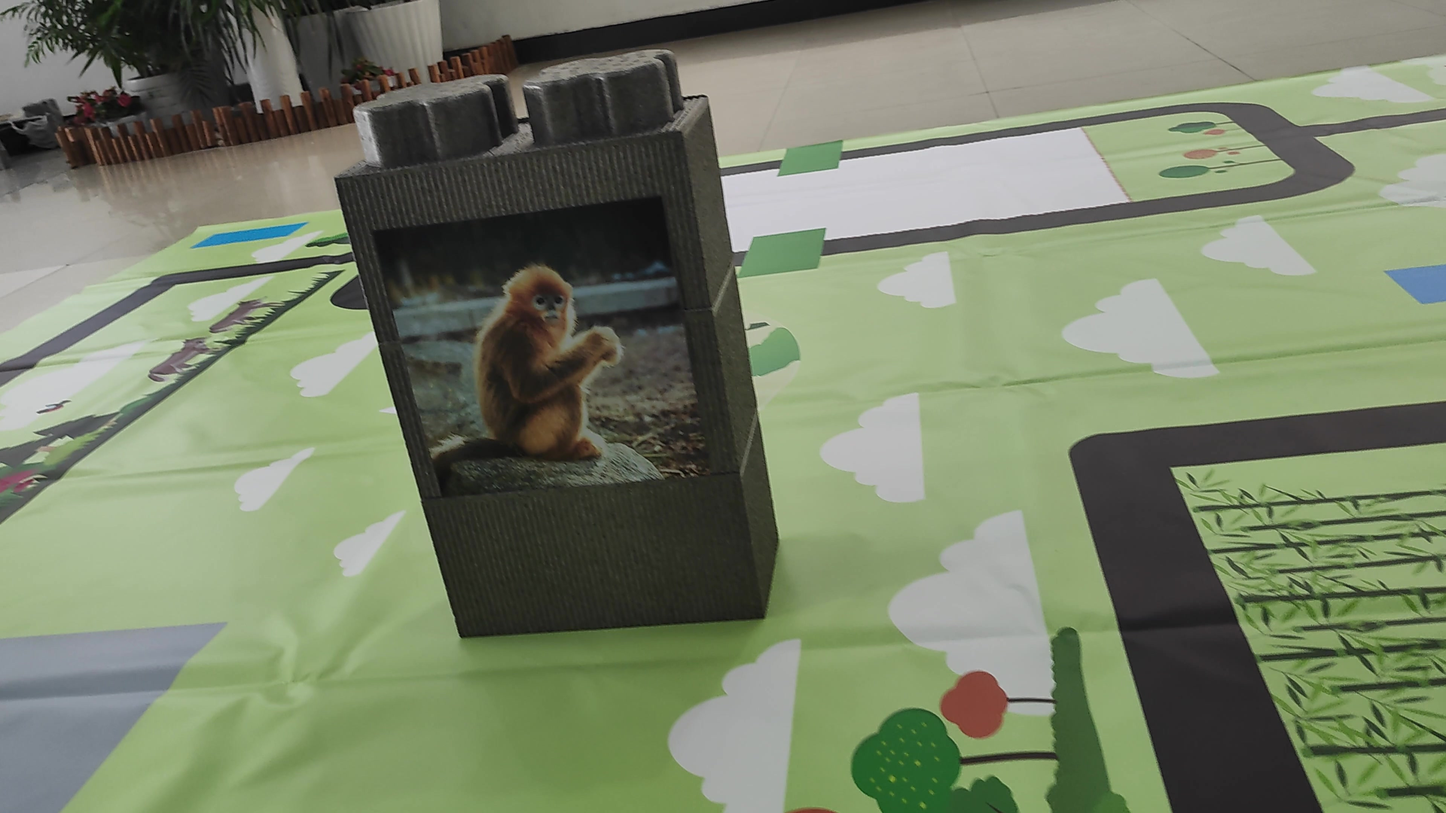monkey: (426, 248, 680, 501)
